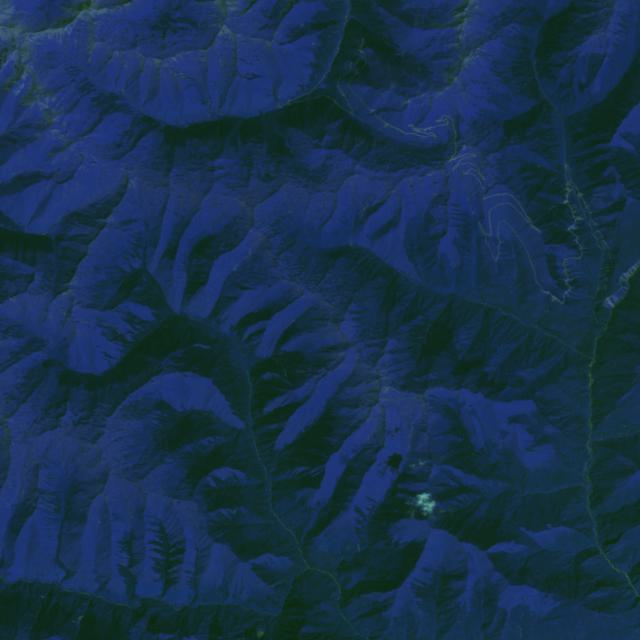landslides: (495, 318, 514, 343), (501, 323, 520, 343), (532, 339, 546, 364), (273, 357, 287, 377), (548, 342, 561, 357), (555, 411, 574, 421), (564, 293, 588, 300), (571, 388, 590, 395)
